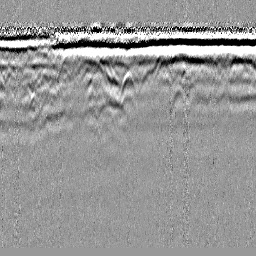cavity: (118, 69, 138, 105)
